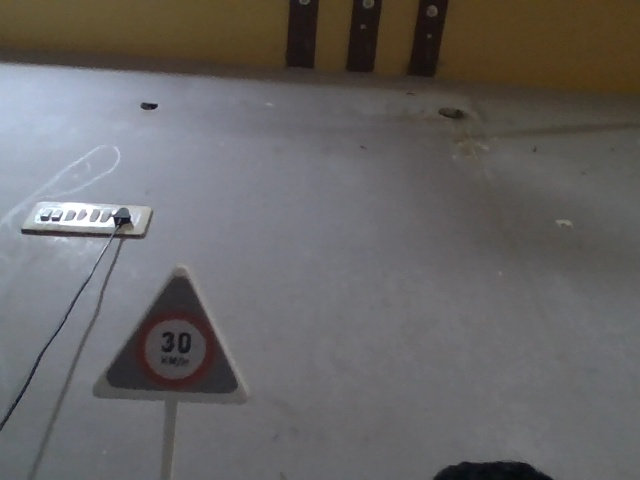speedlimit: (90, 258, 249, 407)
